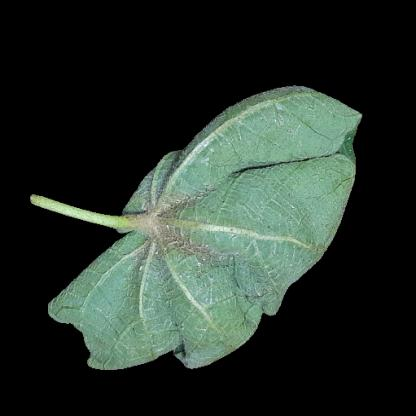curl_stage2: (194, 161, 326, 248), (117, 256, 238, 347)
